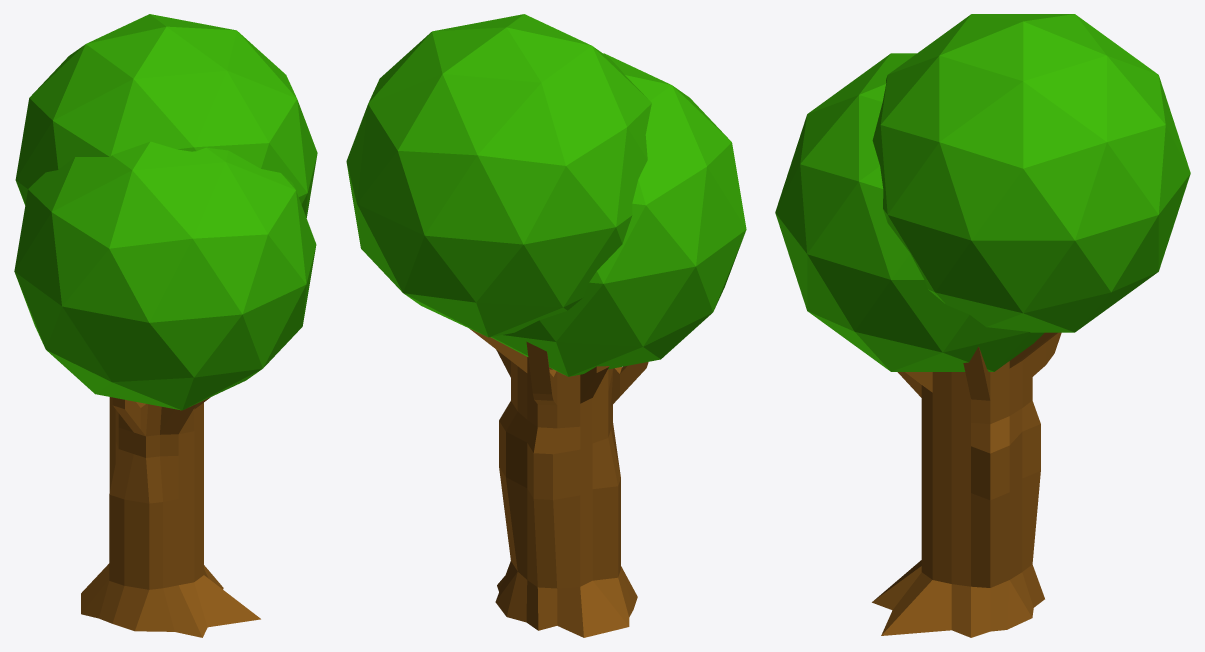
The model's file is boom 2.fbx.
The picture shows the model from 3 angles, left to right: view 1: azimuth 30°, elevation 25°; view 2: azimuth 150°, elevation 25°; view 3: azimuth 270°, elevation 25°; orthographic projection. The views are drawn at different scales.
Parts seen in each view (by area): view 1: Icosphere.001, Cube.001; view 2: Icosphere.001, Cube.001; view 3: Icosphere.001, Cube.001.
Boxes of the visible parts, x1,y1,x2,y2 form: Icosphere.001: (14, 14, 317, 410); Cube.001: (81, 397, 260, 637); Icosphere.001: (346, 14, 746, 376); Cube.001: (469, 328, 648, 637); Icosphere.001: (775, 14, 1190, 371); Cube.001: (872, 332, 1061, 637).
Bounding box in the file's own units: 8199 × 14779 × 9293.
